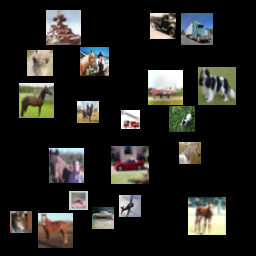airplane: (74, 88, 112, 126), (43, 137, 72, 166), (18, 4, 47, 33), (37, 97, 63, 123)
automobile: (25, 48, 63, 86), (114, 93, 143, 122), (163, 25, 182, 44)
bird: (55, 190, 81, 216), (185, 49, 211, 75)
cat: (130, 189, 156, 215), (94, 193, 116, 215), (116, 152, 135, 171)
deer: (159, 175, 181, 197)
dog: (6, 193, 25, 212)
ship: (177, 112, 215, 150)
